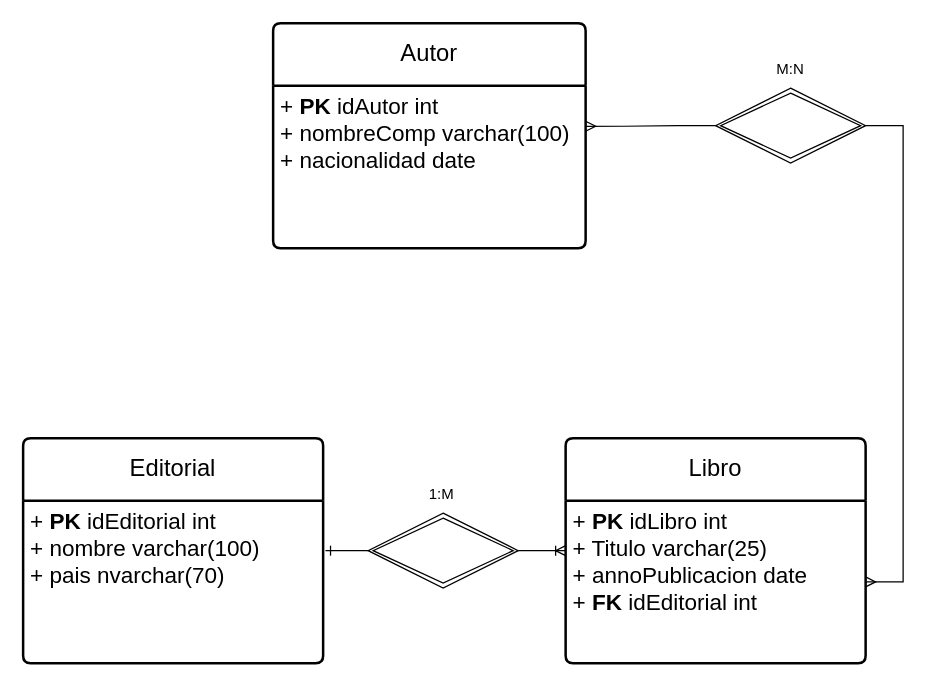
The diagram is 935 pixels wide and 685 high, and some of its shapes have lost their labels. The shapes that lost their labels are listed below. From the top down, each one's box as (x1, y1, x2, y2) in pixels, then its label:
(714, 87, 866, 163): Escribir
(367, 512, 518, 588): Publica
